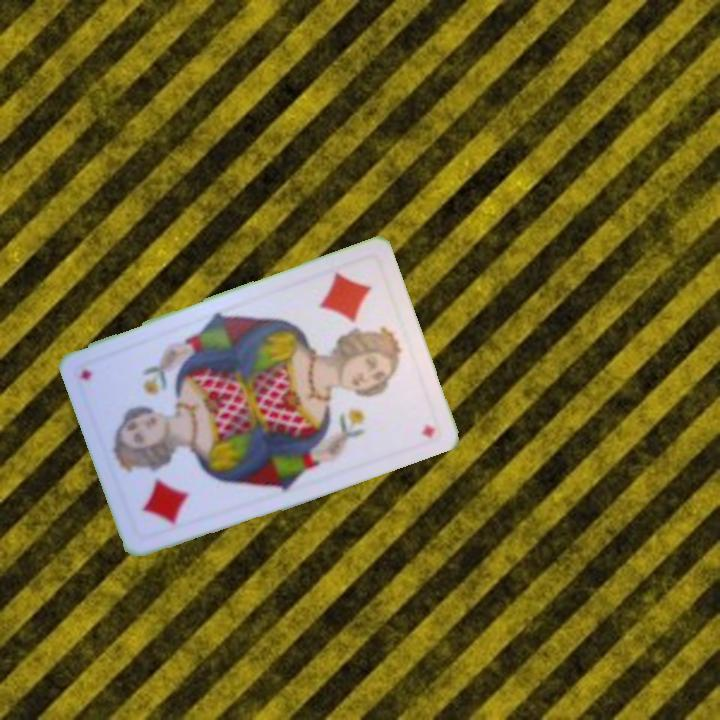d_q.png: (106, 423, 220, 545), (296, 254, 410, 376)
